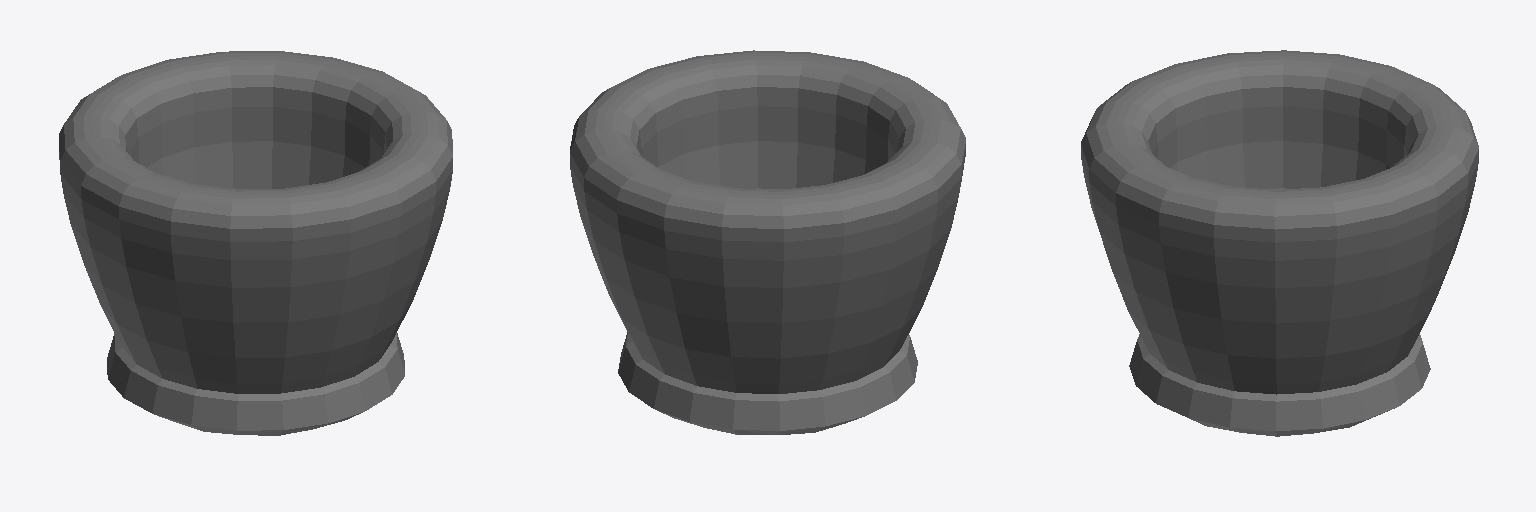
The model's file is Cup.obj.
3 renders of one model, left to right at view 1: azimuth 30°, elevation 25°; view 2: azimuth 150°, elevation 25°; view 3: azimuth 270°, elevation 25°, orthographic.
Visible parts, largest first — view 1: Cup; view 2: Cup; view 3: Cup.
Boxes of the visible parts, x1,y1,x2,y2 form: Cup: [59, 51, 452, 435]; Cup: [570, 50, 965, 434]; Cup: [1081, 50, 1478, 436].
Bounding box in the file's own units: 7.79 × 5.64 × 7.8.